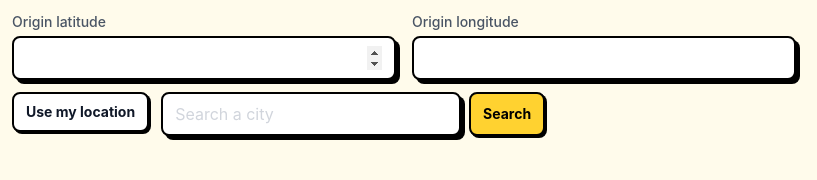
OriginLocationFields › explains a refused location instead of doing nothing
This screenshot has width=817, height=180.
What coordinates should you click on to do the following:
click the button "Use my location"
I would click on:
 (81, 112)
Its box is [12,92,149,132].
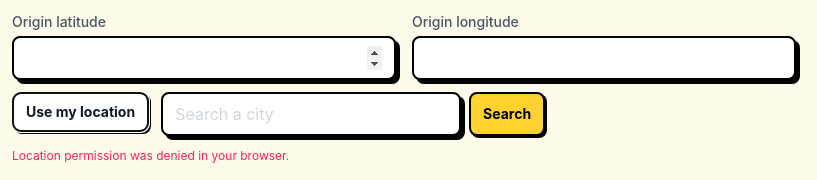
Expected: the text "Location permission was denied in your browser." is shown, [12,148,289,163]
